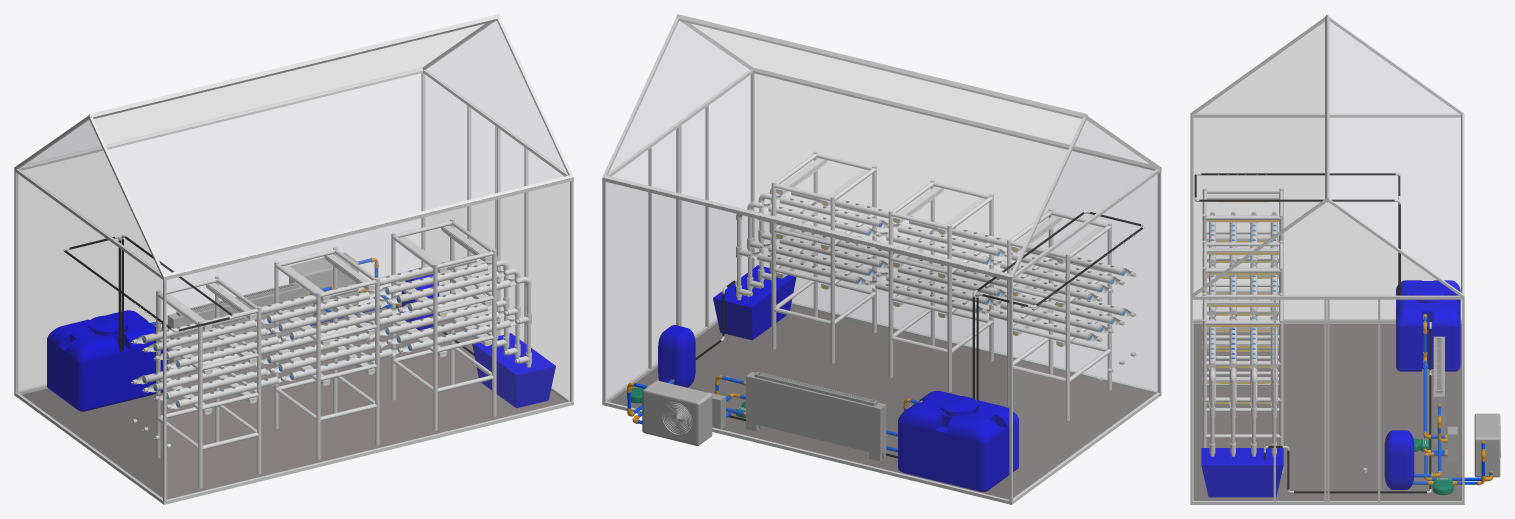
The model's file is pipeline.glb.
3 renders of one model, left to right at view 1: azimuth 30°, elevation 25°; view 2: azimuth 150°, elevation 25°; view 3: azimuth 270°, elevation 25°, orthographic. The views are drawn at different scales.
Parts seen in each view (by area): view 1: greenhouse, Plane.015, light3-on, light2-off, light3-off, light1-on; view 2: greenhouse, Plane.015, light3-on, light2-off, light3-off, light1-on; view 3: greenhouse, Plane.015, light3-on, light2-on, light1-on, light2-off, light3-off.
Part boxes in pixels (left/top/right/bottom): greenhouse: left=14, top=14, right=573, bottom=504; Plane.015: left=47, top=218, right=555, bottom=488; light3-on: left=166, top=225, right=492, bottom=328; light2-off: left=166, top=270, right=491, bottom=374; light3-off: left=167, top=227, right=491, bottom=330; light1-on: left=166, top=310, right=492, bottom=412; greenhouse: left=602, top=14, right=1161, bottom=504; Plane.015: left=626, top=151, right=1144, bottom=491; light3-on: left=776, top=158, right=1103, bottom=262; light2-off: left=777, top=202, right=1103, bottom=306; light3-off: left=776, top=160, right=1100, bottom=263; light1-on: left=776, top=242, right=1103, bottom=346; greenhouse: left=1190, top=14, right=1464, bottom=504; Plane.015: left=1194, top=172, right=1500, bottom=497; light3-on: left=1202, top=195, right=1283, bottom=327; light2-on: left=1202, top=238, right=1279, bottom=367; light1-on: left=1202, top=273, right=1279, bottom=403; light2-off: left=1202, top=235, right=1278, bottom=363; light3-off: left=1202, top=201, right=1278, bottom=327.
Size of the model in its own units: 29.15 by 22.82 by 20.85.
